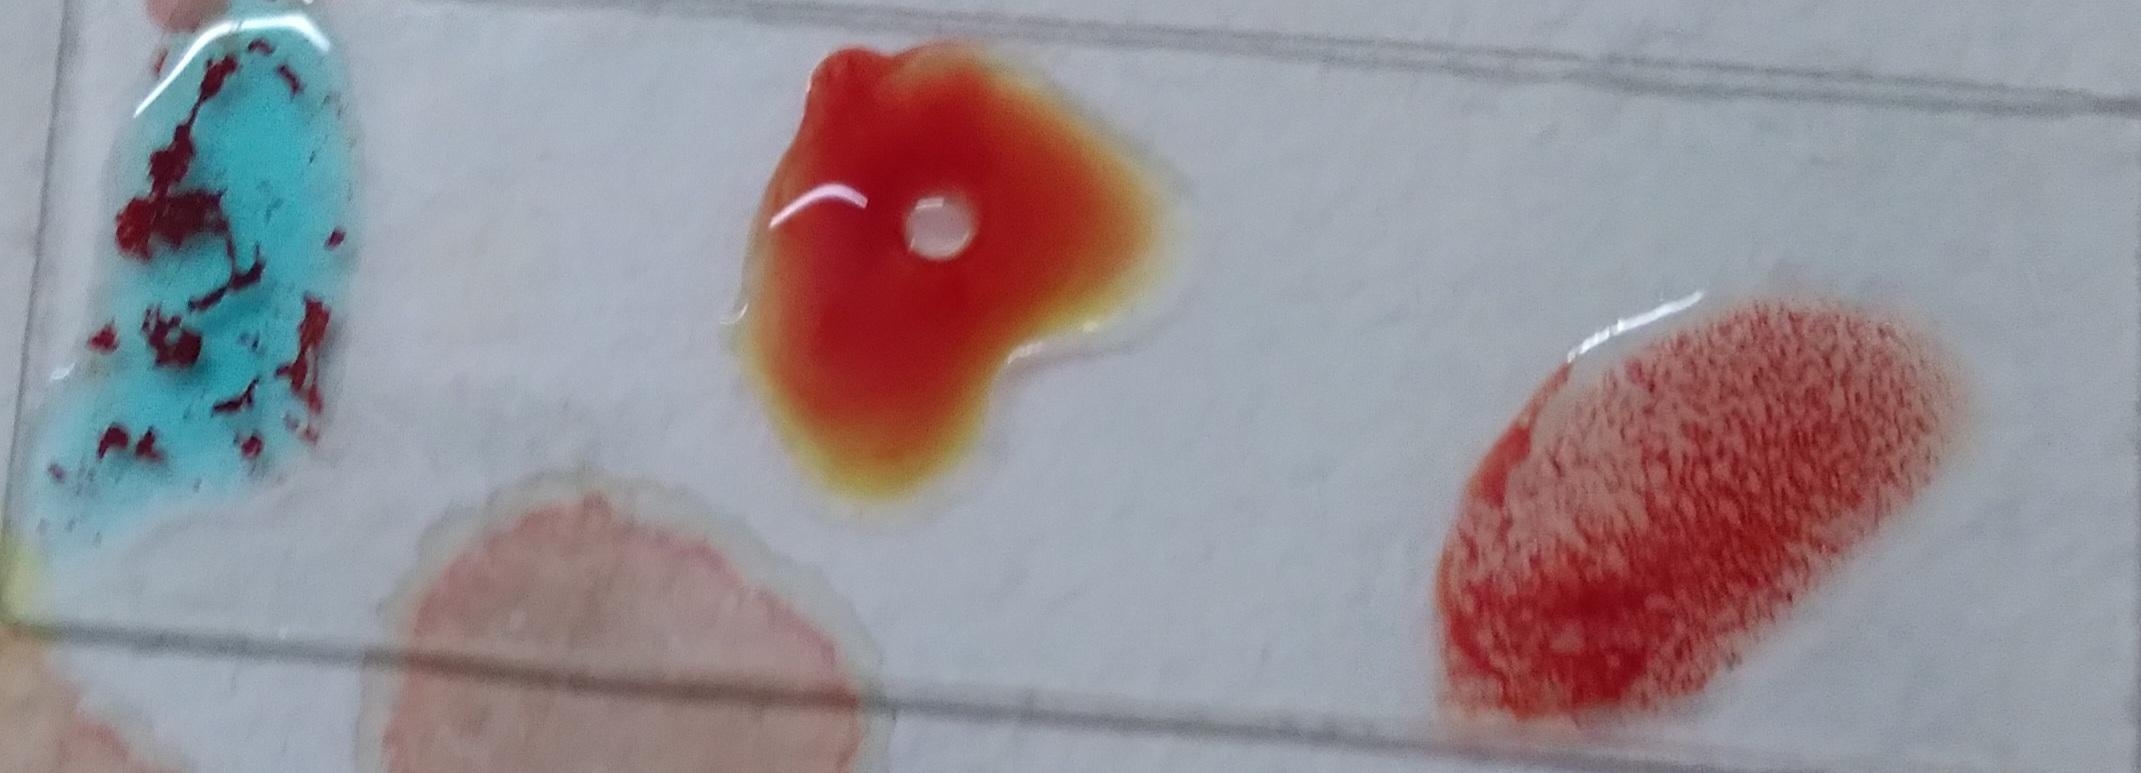A: (1781, 280, 2047, 746)
D: (206, 34, 713, 483)
